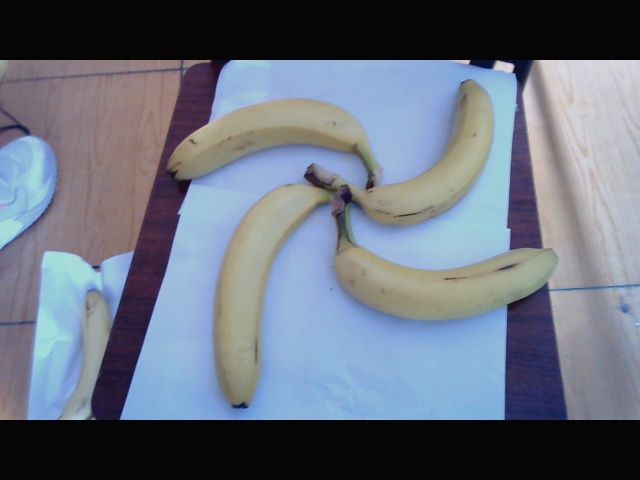banana: (326, 214, 562, 327), (213, 181, 298, 412), (369, 86, 494, 226), (173, 94, 389, 170)
